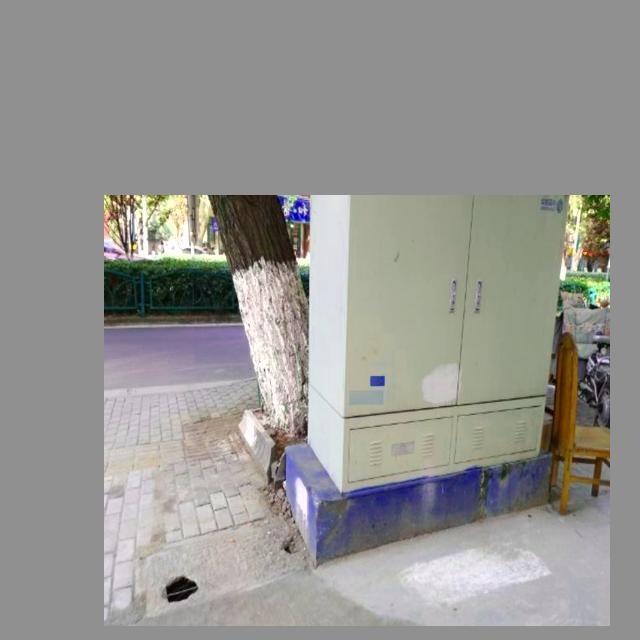broke: (146, 509, 302, 603)
